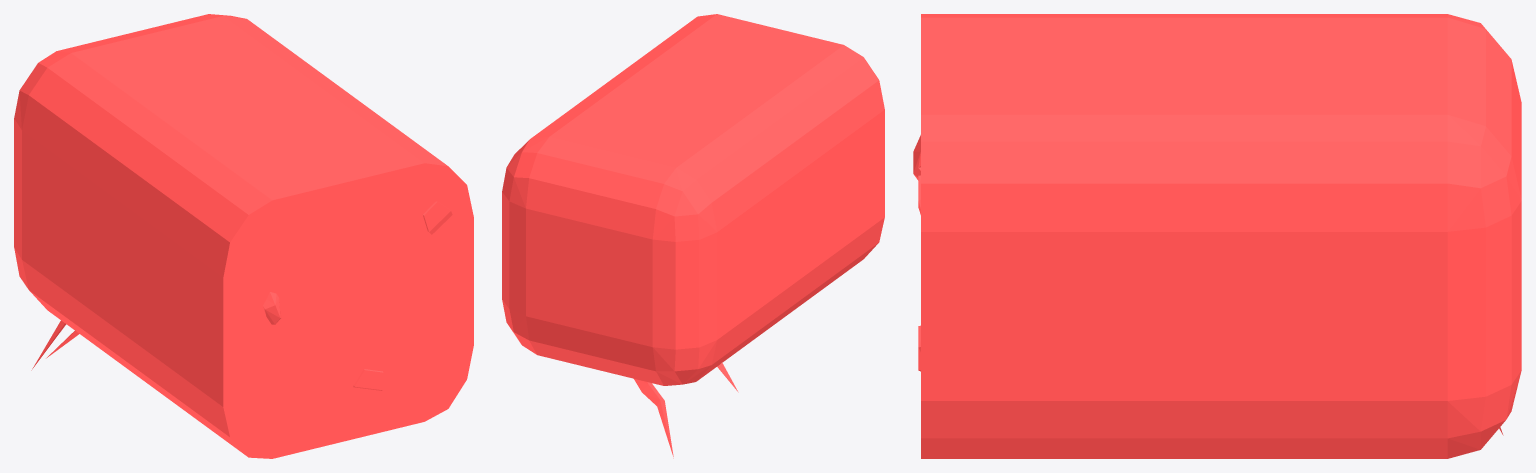
Rendered from vardorvis.glb.
3 views of the same model, side by side, from view 1: azimuth 30°, elevation 25°; view 2: azimuth 150°, elevation 25°; view 3: azimuth 270°, elevation 25° (orthographic). The views are drawn at different scales.
Size of the model in its own units: 149 by 186 by 238.
